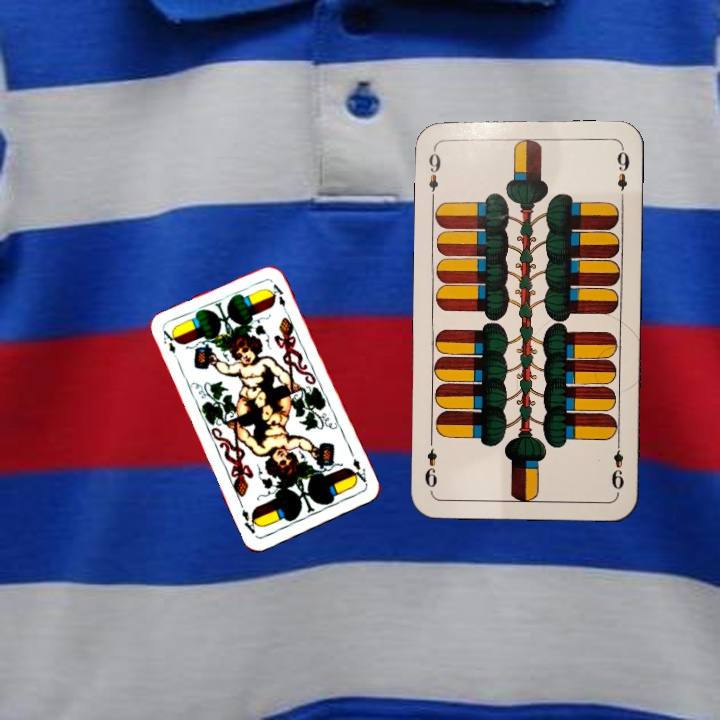E9: (424, 143, 444, 202), (607, 436, 627, 492)
EA: (159, 326, 182, 365), (346, 454, 369, 486)
